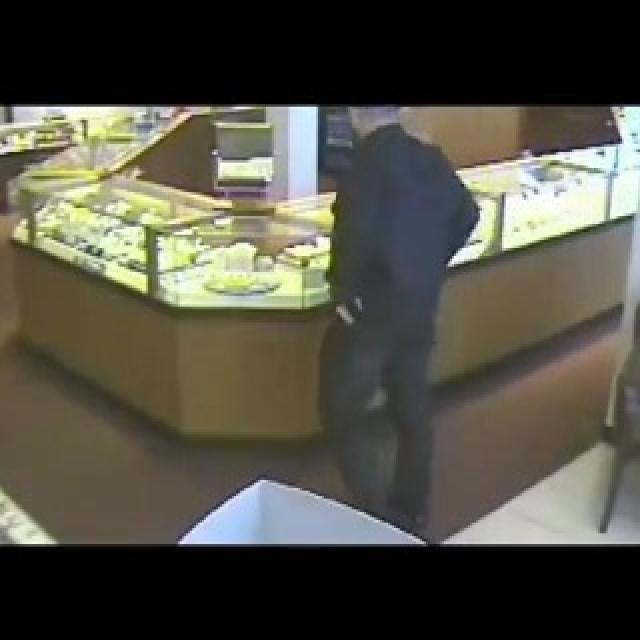Normal: (295, 105, 494, 544)
